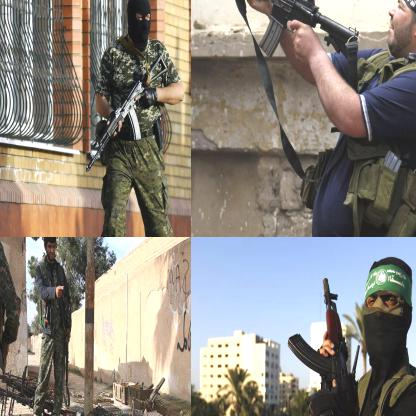rifle: (285, 276, 358, 415), (85, 55, 168, 174), (201, 0, 358, 58), (0, 390, 76, 415), (0, 373, 60, 404)
